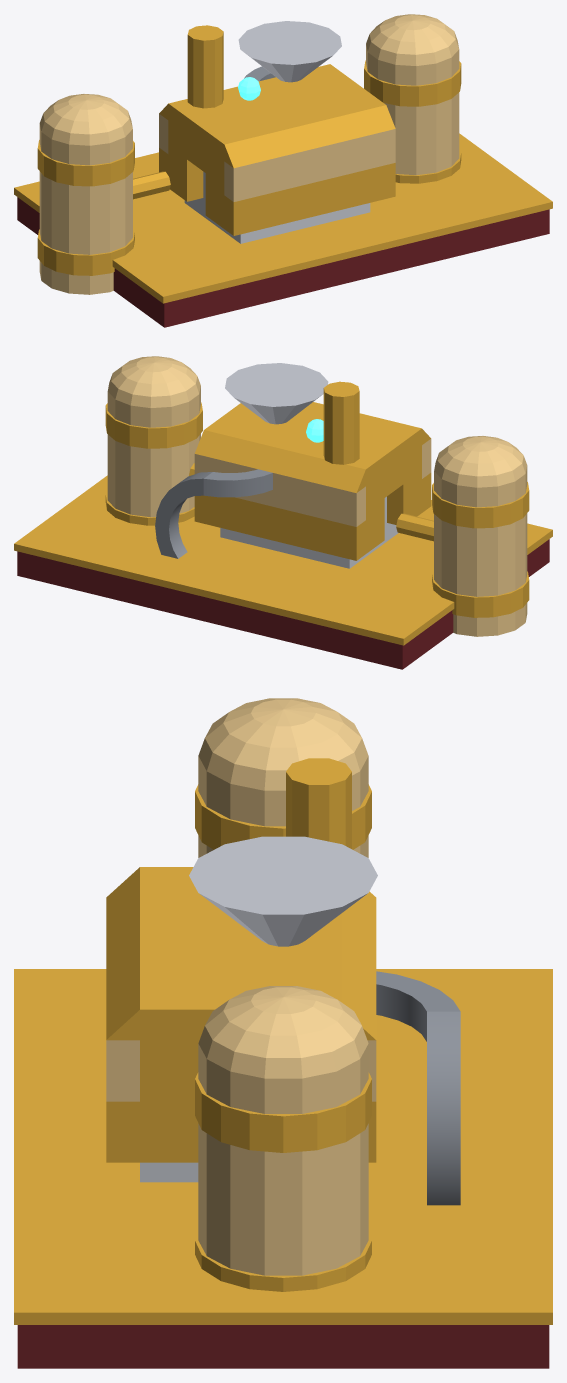
File: moxie-n3.glb
3 renders of one model, top to bottom at view 1: azimuth 30°, elevation 25°; view 2: azimuth 150°, elevation 25°; view 3: azimuth 270°, elevation 25°, orthographic. The views are drawn at different scales.
Visible parts, largest first — view 1: machine_generator, Cube.001, Cube, Cylinder.005, Cylinder, Cone, Sphere, Sphere.002, Cylinder.010, Cylinder.007, Cylinder.002, Cylinder.006 (+3 smaller); view 2: Cube.001, machine_generator, Cube, Cylinder.005, Cylinder, Cone, cable, Sphere, Sphere.002, Cylinder.010, Cylinder.002, Cylinder.007 (+3 smaller); view 3: Cube.001, machine_generator, Cylinder, Cube, Cone, Sphere, Sphere.002, cable, Cylinder.002, Cylinder.010, Cylinder.005, Cylinder.001 (+1 smaller).
Part boxes in pixels (left/top/right/bottom): machine_generator: left=159, top=64, right=395, bottom=243; Cube.001: left=14, top=133, right=552, bottom=303; Cube: left=17, top=197, right=549, bottom=327; Cylinder.005: left=39, top=124, right=132, bottom=294; Cylinder: left=366, top=44, right=459, bottom=175; Cone: left=238, top=21, right=341, bottom=82; Sphere: left=366, top=14, right=458, bottom=65; Sphere.002: left=39, top=94, right=132, bottom=145; Cylinder.010: left=187, top=25, right=223, bottom=108; Cylinder.007: left=37, top=140, right=134, bottom=186; Cylinder.002: left=364, top=60, right=461, bottom=106; Cylinder.006: left=37, top=229, right=134, bottom=275; Cube.001: left=14, top=475, right=552, bottom=645; machine_generator: left=194, top=402, right=431, bottom=568; Cube: left=17, top=539, right=549, bottom=669; Cylinder.005: left=434, top=466, right=527, bottom=636; Cylinder: left=107, top=386, right=200, bottom=517; Cone: left=225, top=363, right=328, bottom=424; cable: left=155, top=469, right=272, bottom=558; Sphere: left=108, top=356, right=200, bottom=407; Sphere.002: left=434, top=436, right=527, bottom=487; Cylinder.010: left=323, top=381, right=359, bottom=464; Cylinder.002: left=105, top=402, right=202, bottom=448; Cylinder.007: left=432, top=482, right=529, bottom=528; Cube.001: left=14, top=969, right=552, bottom=1324; machine_generator: left=106, top=867, right=376, bottom=1182; Cylinder: left=198, top=1044, right=368, bottom=1275; Cube: left=17, top=1325, right=549, bottom=1368; Cone: left=189, top=836, right=377, bottom=946; Sphere: left=198, top=986, right=368, bottom=1078; Sphere.002: left=198, top=698, right=368, bottom=790; cable: left=376, top=971, right=460, bottom=1205; Cylinder.002: left=195, top=1072, right=371, bottom=1152; Cylinder.010: left=286, top=758, right=351, bottom=848; Cylinder.005: left=198, top=756, right=368, bottom=857; Cylinder.001: left=195, top=1234, right=371, bottom=1291.
Size of the model in its own units: 1.34 by 0.6 by 0.798.
